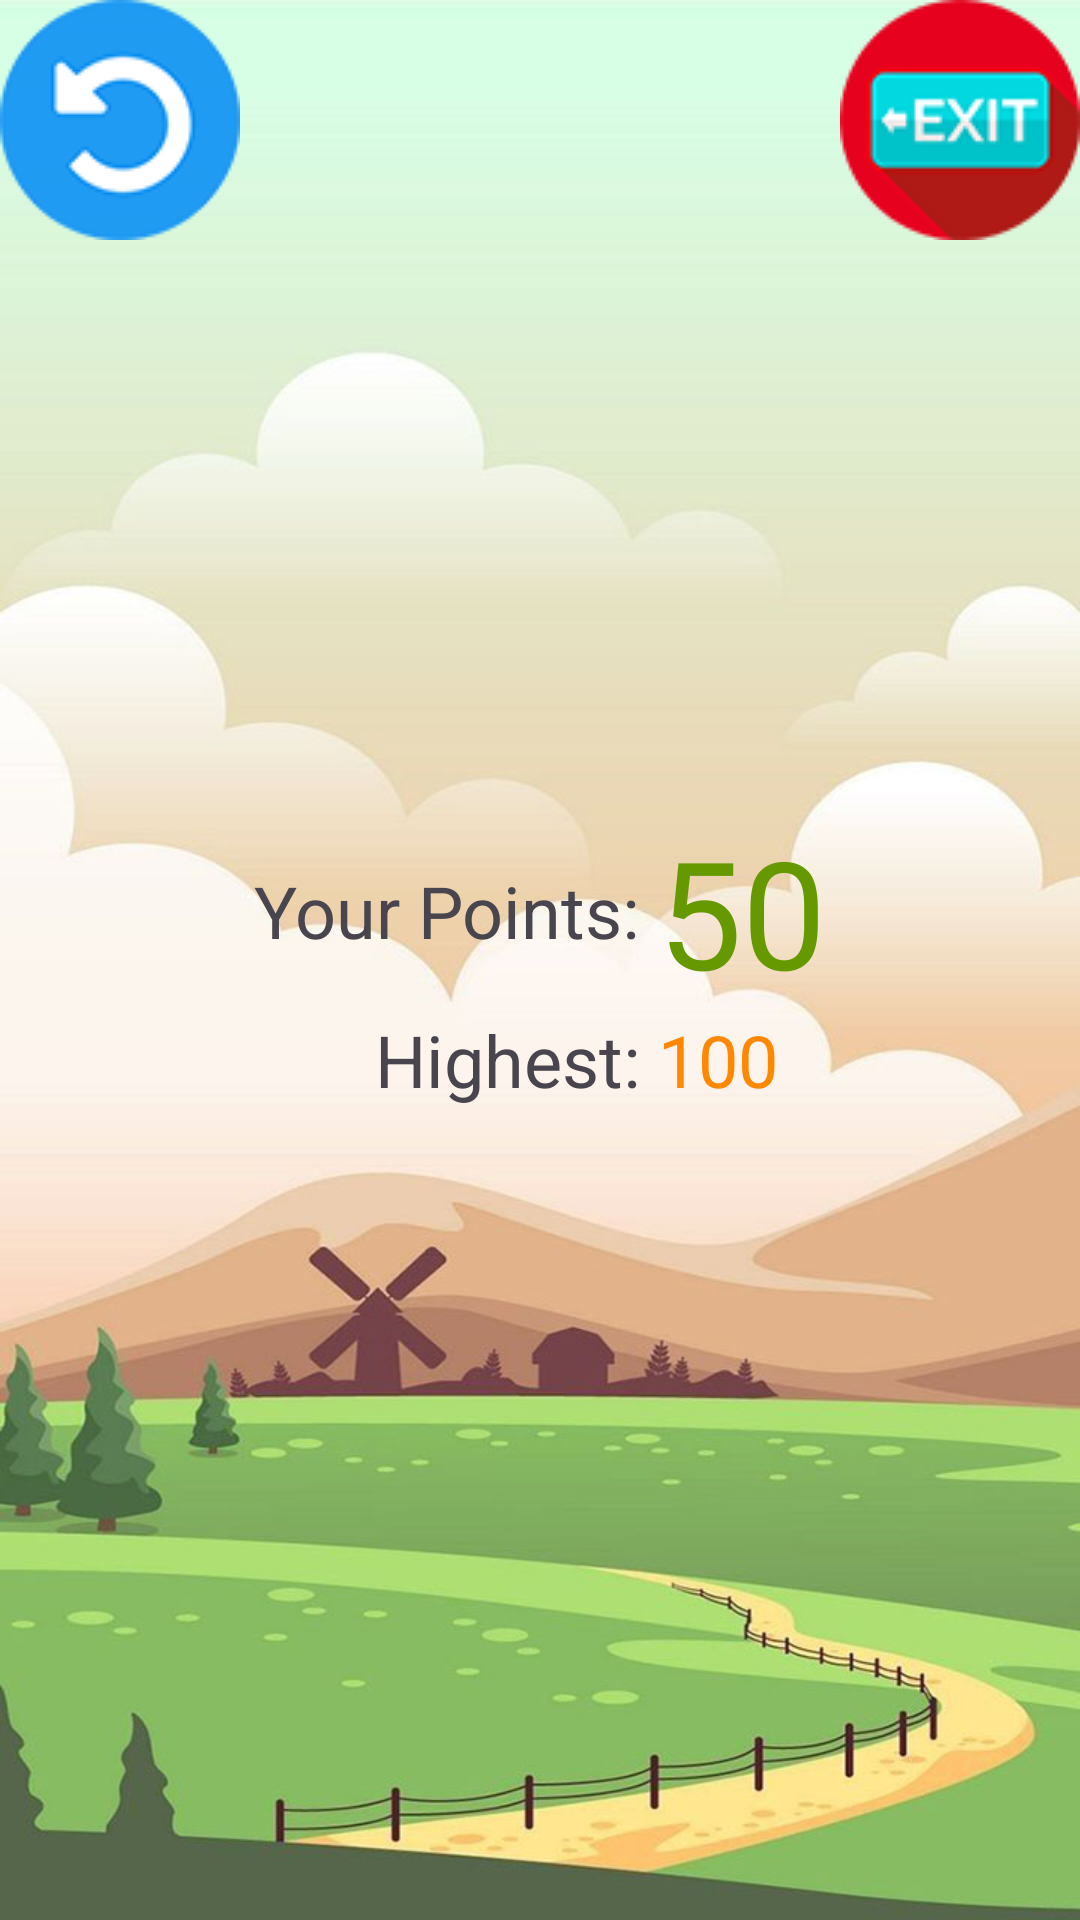

Named icons in this screenshot (1080x1920) and their bounding boxes, (x1, y1, x2, y2):
restart: (0, 0, 240, 240)
